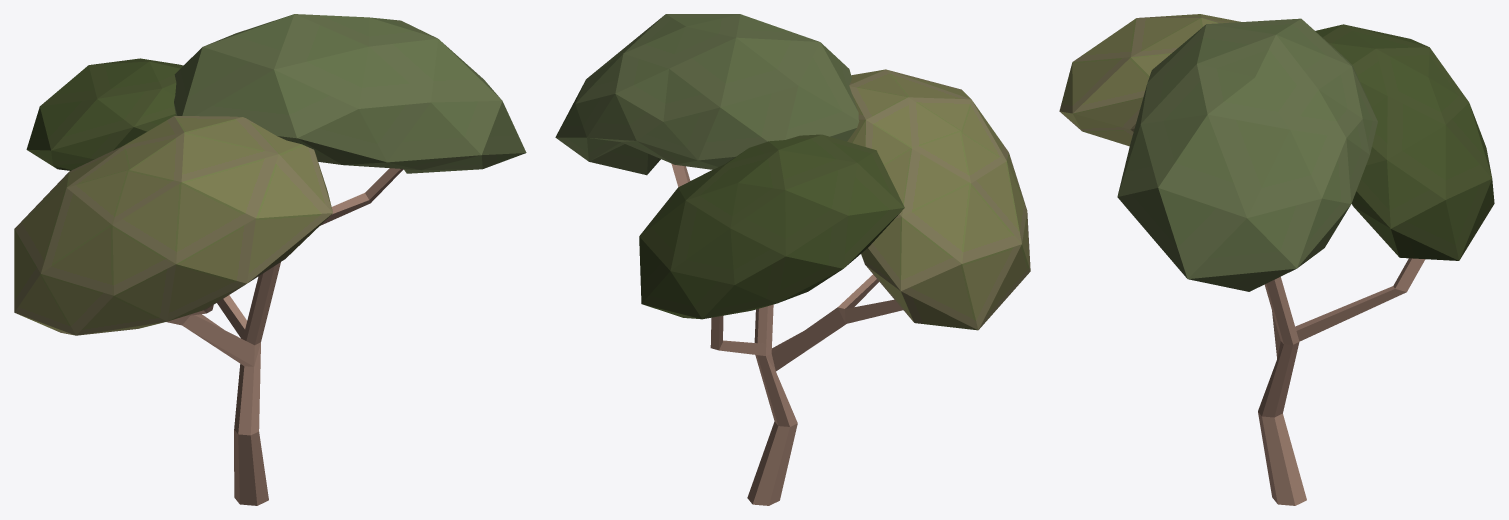
Rendered from LPTree_Tree_Type3_03_Model_instanced_l2.glb.
The picture shows the model from 3 angles, left to right: view 1: azimuth 30°, elevation 25°; view 2: azimuth 150°, elevation 25°; view 3: azimuth 270°, elevation 25°; orthographic projection. The views are drawn at different scales.
Visible parts, largest first — view 1: Tree Type3 03 Model; view 2: Tree Type3 03 Model; view 3: Tree Type3 03 Model.
Boxes of the visible parts, x1,y1,x2,y2 form: Tree Type3 03 Model: [14, 14, 526, 505]; Tree Type3 03 Model: [555, 14, 1030, 505]; Tree Type3 03 Model: [1059, 14, 1494, 505].
Size of the model in its own units: 4.44 by 4.37 by 3.57.
1 material, 1 textured.
